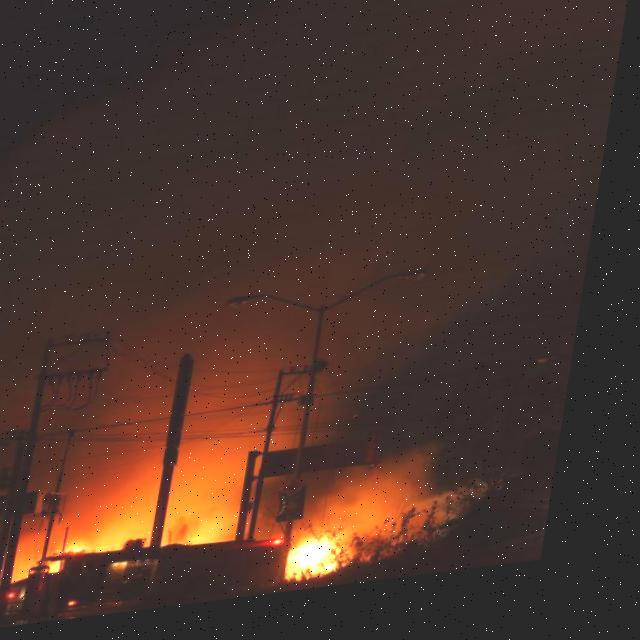Fire: (301, 538, 371, 588)
